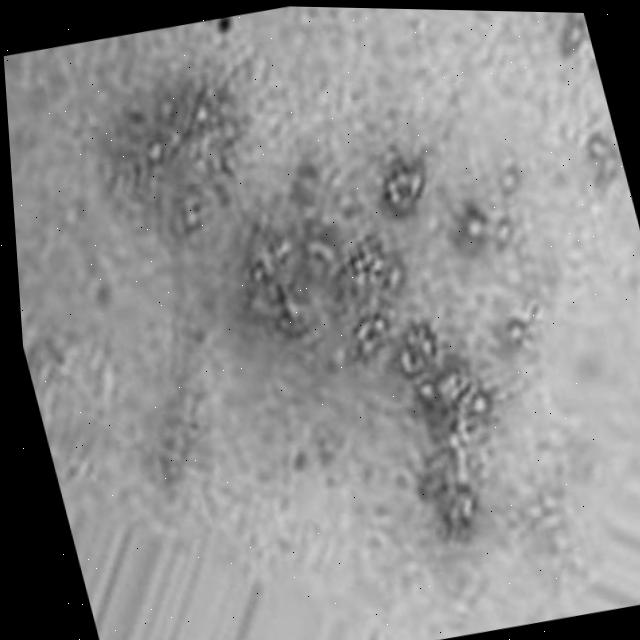Shingles: (108, 33, 597, 569), (573, 123, 627, 194), (543, 12, 593, 61)
